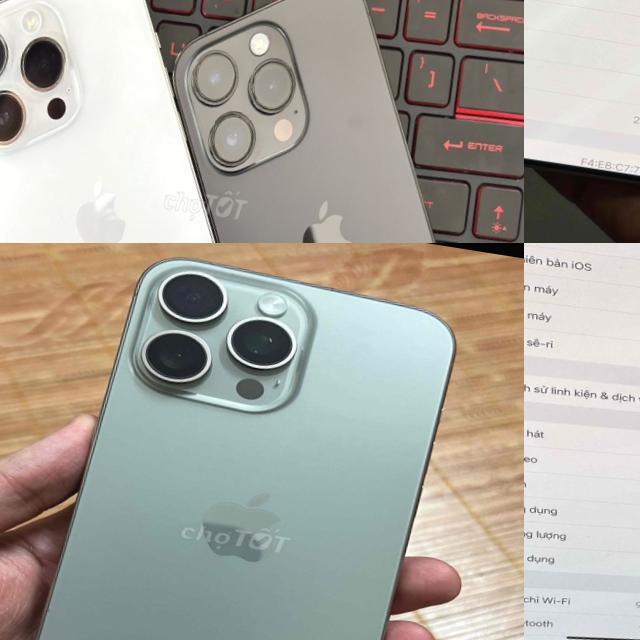gen_14: (0, 0, 318, 243)
gen_15: (0, 243, 460, 640), (524, 0, 640, 204)
gen_x_xs: (524, 243, 640, 640)
